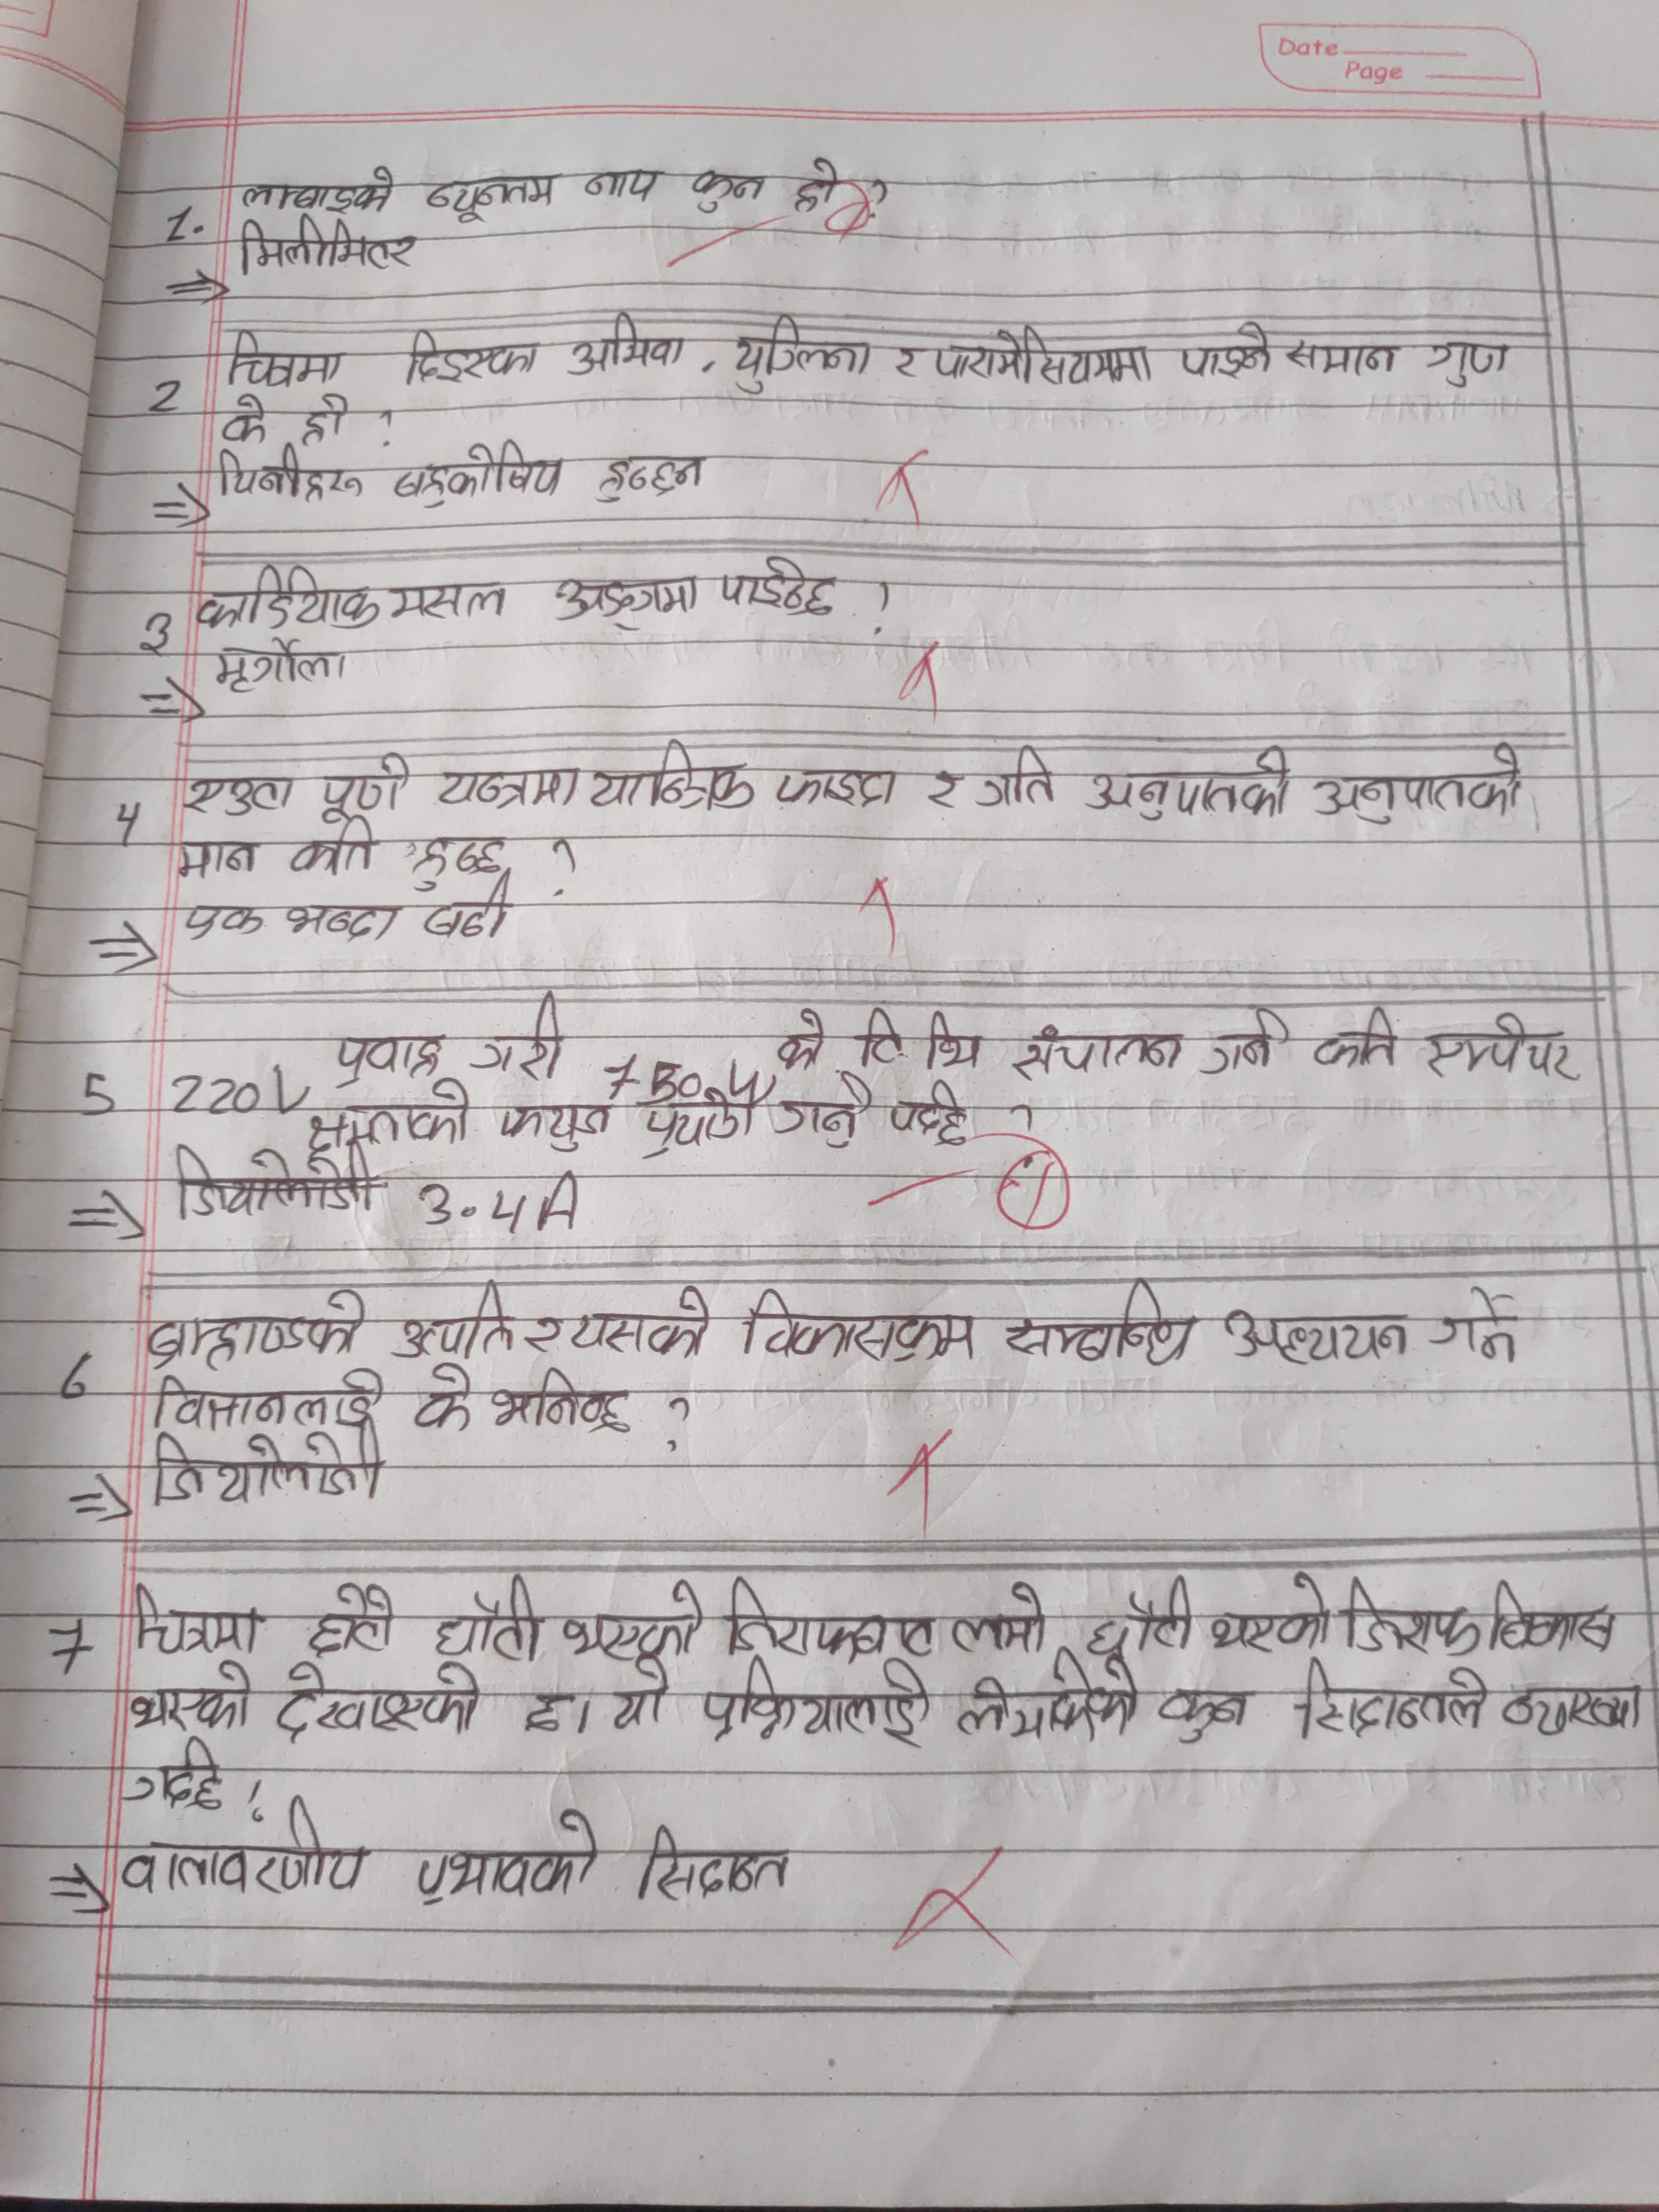text: (113, 1811, 371, 1898), (145, 1426, 392, 1512), (716, 1573, 936, 1663), (737, 1282, 985, 1362), (694, 1669, 931, 1750), (1309, 744, 1532, 829), (413, 1808, 603, 1907), (1000, 1284, 1209, 1372), (1080, 742, 1297, 826), (270, 1663, 488, 1743), (167, 1141, 380, 1223), (143, 1291, 369, 1367), (1295, 1658, 1495, 1743), (936, 317, 1159, 392), (951, 1660, 1140, 1743), (186, 561, 387, 636), (146, 1371, 389, 1432), (596, 738, 758, 824), (725, 307, 878, 395), (629, 1827, 798, 1904), (1338, 1575, 1485, 1662), (119, 1580, 277, 1660), (390, 441, 572, 510), (1222, 1306, 1410, 1372), (558, 1578, 708, 1660), (1431, 1010, 1577, 1094), (237, 209, 425, 273), (1486, 1575, 1628, 1660), (568, 1282, 713, 1362), (483, 1371, 647, 1440), (1012, 1024, 1187, 1087), (1204, 1569, 1335, 1651), (852, 1001, 992, 1078), (303, 1099, 477, 1160), (465, 991, 573, 1089), (545, 573, 708, 637), (429, 1581, 547, 1665), (199, 634, 352, 698), (1422, 1278, 1527, 1372), (394, 326, 542, 392), (1082, 1575, 1201, 1656), (399, 1287, 523, 1366), (711, 552, 849, 620), (122, 1662, 256, 1731), (565, 310, 694, 380), (634, 1090, 762, 1160), (122, 1735, 234, 1813), (207, 451, 368, 503), (432, 759, 589, 812), (770, 751, 901, 813), (420, 165, 566, 221), (221, 322, 347, 387), (953, 1575, 1049, 1656), (174, 761, 305, 820), (1495, 1686, 1654, 1735), (1197, 1000, 1295, 1078), (770, 1087, 880, 1153), (882, 1080, 979, 1153), (493, 1097, 620, 1153), (969, 742, 1063, 817), (284, 812, 382, 883), (303, 1588, 403, 1658), (312, 751, 413, 819), (1176, 320, 1283, 383), (406, 826, 509, 890), (234, 171, 403, 209), (383, 580, 516, 629), (1307, 1010, 1405, 1076), (596, 449, 708, 507), (326, 1033, 444, 1087), (406, 1359, 486, 1437), (1159, 1684, 1253, 1750), (1283, 334, 1399, 383), (1424, 333, 1520, 392), (284, 894, 403, 941), (416, 892, 511, 946), (610, 1660, 676, 1731), (769, 1005, 831, 1075), (176, 834, 268, 881), (681, 164, 772, 211), (173, 902, 270, 946), (584, 162, 669, 204), (298, 394, 356, 453), (516, 1684, 572, 1745), (791, 152, 845, 214), (917, 761, 971, 822), (220, 392, 274, 446), (885, 343, 927, 385), (530, 1306, 565, 1355)
